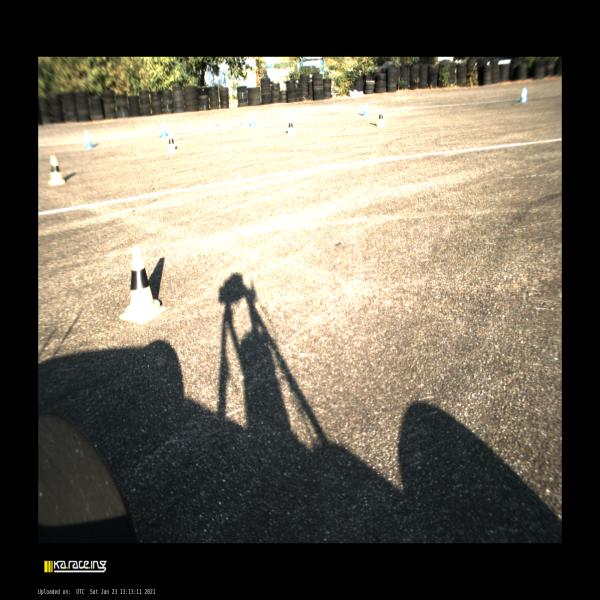blue_cone: (84, 131, 94, 148), (160, 122, 168, 136), (520, 89, 528, 102), (362, 102, 369, 115), (249, 114, 255, 126)
yellow_cone: (118, 244, 168, 324), (48, 155, 66, 186), (167, 134, 176, 153), (377, 110, 385, 128), (287, 120, 295, 136)
